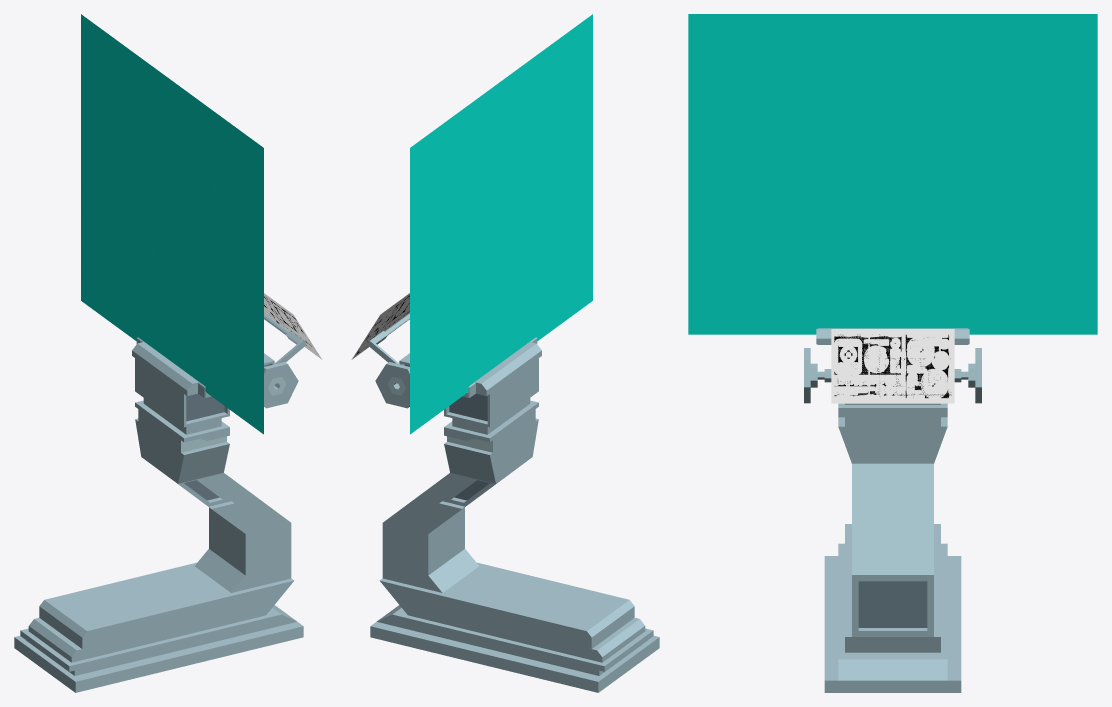
Rendered from holo display.fbx.
3 views of the same model, side by side, from view 1: azimuth 30°, elevation 25°; view 2: azimuth 150°, elevation 25°; view 3: azimuth 270°, elevation 25° (orthographic). The views are drawn at different scales.
Parts seen in each view (by area): view 1: holo display-screenbig, holo display, holo display-screen1; view 2: holo display-screenbig, holo display, holo display-screen1; view 3: holo display-screenbig, holo display, holo display-screen1.
Boxes of the visible parts, <box> form: holo display-screenbig: <box>81,14,263,434</box>; holo display: <box>14,313,306,692</box>; holo display-screen1: <box>264,293,322,359</box>; holo display-screenbig: <box>410,14,592,434</box>; holo display: <box>367,313,659,692</box>; holo display-screen1: <box>351,293,409,359</box>; holo display-screenbig: <box>688,14,1097,334</box>; holo display: <box>804,328,981,692</box>; holo display-screen1: <box>831,329,954,403</box>.
Bounding box in the file's own units: 47.16 × 101 × 59.81.
